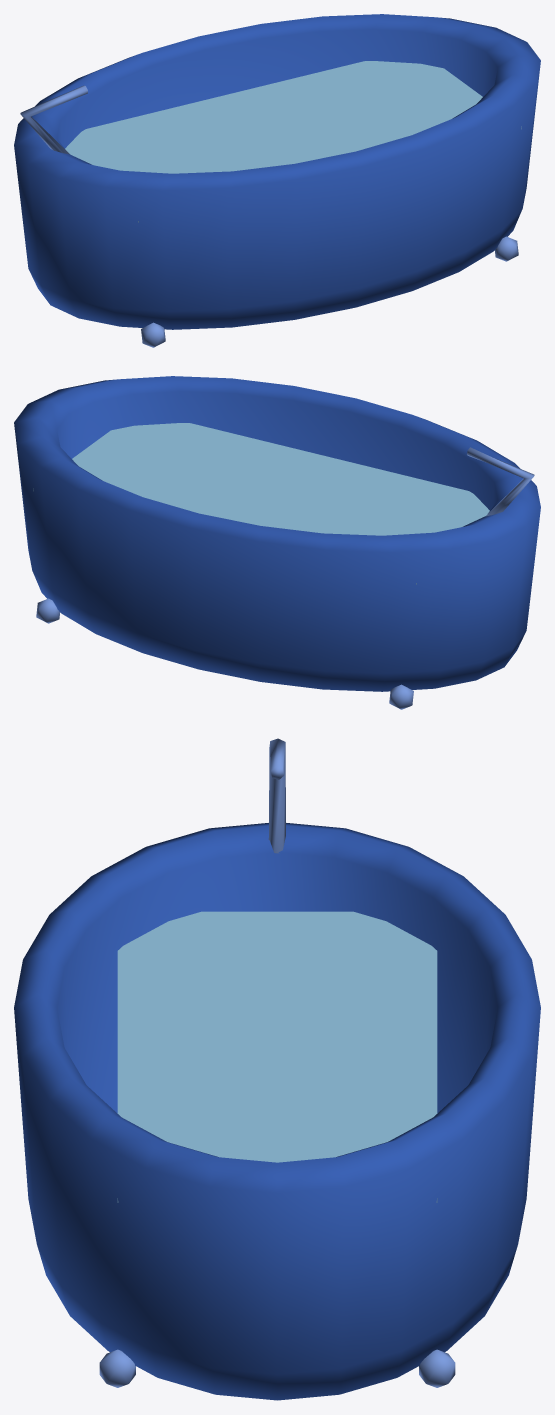
Rendered from mushroom_bathtub_v0.glb.
3 renders of one model, top to bottom at view 1: azimuth 30°, elevation 25°; view 2: azimuth 150°, elevation 25°; view 3: azimuth 270°, elevation 25°, orthographic. The views are drawn at different scales.
Visible parts, largest first — view 1: mushroom_bathtub_v0; view 2: mushroom_bathtub_v0; view 3: mushroom_bathtub_v0.
Part boxes in pixels (x1=…): mushroom_bathtub_v0: x1=14, y1=14, x2=540, y2=347; mushroom_bathtub_v0: x1=14, y1=376, x2=540, y2=709; mushroom_bathtub_v0: x1=14, y1=738, x2=540, y2=1400.
Bounding box in the file's own units: 2.51 × 1.08 × 1.49.
